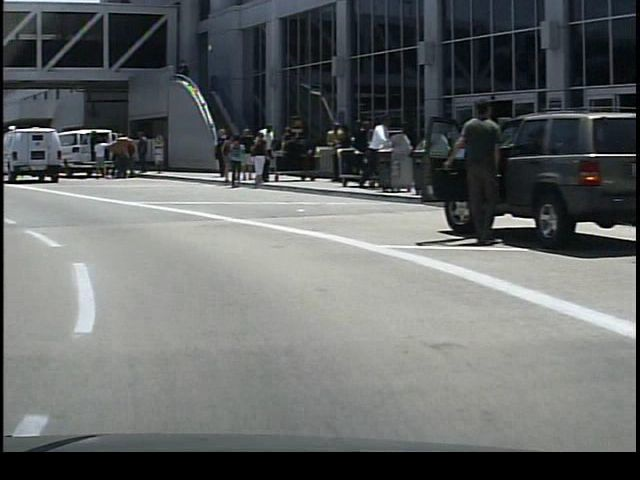person: (436, 79, 508, 249), (353, 111, 388, 195), (250, 122, 275, 184), (245, 131, 267, 182), (108, 131, 129, 183), (132, 130, 153, 177), (90, 138, 108, 184), (219, 126, 225, 179)
